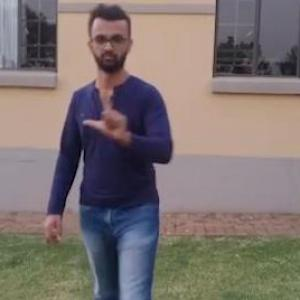land_hand: (81, 84, 136, 143)
